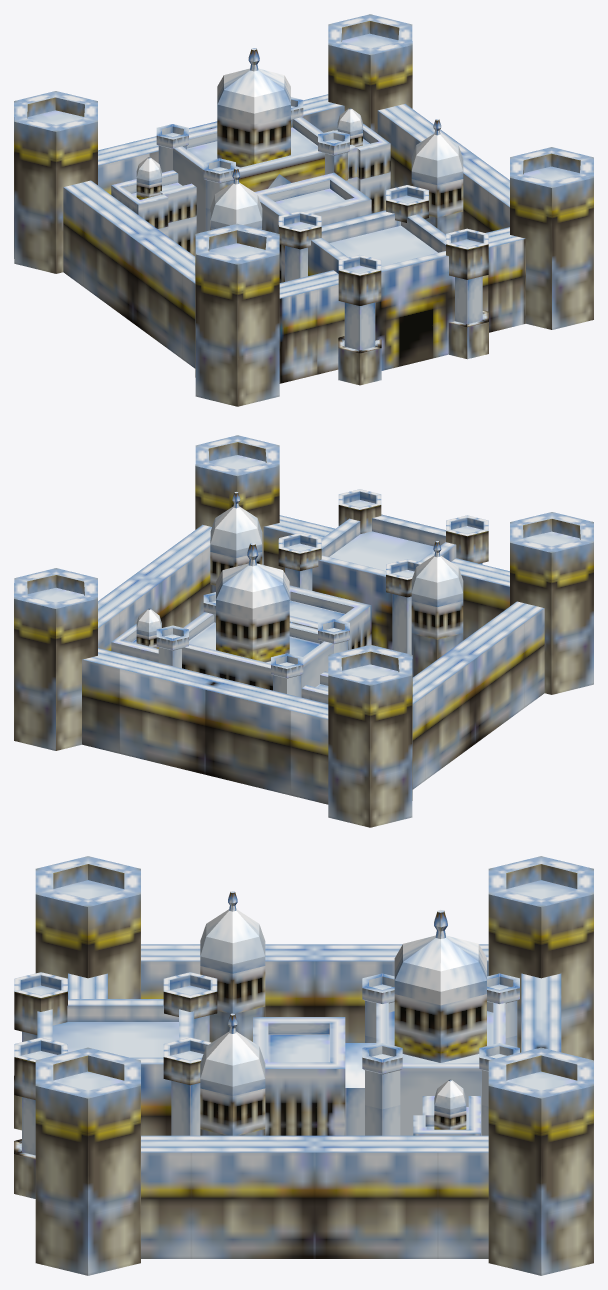
The model's file is Poly_World_Map_Castle_05_Snow.obj.
3 renders of one model, top to bottom at view 1: azimuth 30°, elevation 25°; view 2: azimuth 150°, elevation 25°; view 3: azimuth 270°, elevation 25°, orthographic. The views are drawn at different scales.
Visible parts, largest first — view 1: Grid.002, Grid.004, Grid.005, Grid.006, Grid.009, Grid.011, Grid.003, Grid.008, Grid.007, Grid.001, Grid.012; view 2: Grid.004, Grid.002, Grid.005, Grid.003, Grid.009, Grid.008, Grid.001, Grid.006, Grid.007, Grid.011, Grid.012; view 3: Grid.002, Grid.004, Grid.003, Grid.009, Grid.007, Grid.005, Grid.006, Grid.001, Grid.008, Grid.010, Grid.011, Grid.012.
Part boxes in pixels (left/top/right/bottom): Grid.002: left=14, top=14, right=593, bottom=406; Grid.004: left=63, top=94, right=525, bottom=383; Grid.005: left=308, top=210, right=454, bottom=370; Grid.006: left=338, top=228, right=488, bottom=385; Grid.009: left=217, top=48, right=290, bottom=167; Grid.011: left=111, top=123, right=390, bottom=256; Grid.003: left=210, top=119, right=463, bottom=234; Grid.008: left=173, top=117, right=324, bottom=233; Grid.007: left=254, top=172, right=371, bottom=282; Grid.001: left=278, top=185, right=428, bottom=281; Grid.012: left=136, top=108, right=362, bottom=199; Grid.004: left=82, top=515, right=544, bottom=804; Grid.002: left=14, top=435, right=593, bottom=827; Grid.005: left=312, top=514, right=456, bottom=649; Grid.003: left=210, top=492, right=463, bottom=677; Grid.009: left=216, top=543, right=289, bottom=662; Grid.008: left=182, top=612, right=333, bottom=697; Grid.001: left=278, top=533, right=422, bottom=654; Grid.006: left=338, top=489, right=488, bottom=564; Grid.007: left=289, top=585, right=371, bottom=649; Grid.011: left=111, top=624, right=328, bottom=703; Grid.012: left=136, top=608, right=161, bottom=648; Grid.002: left=35, top=856, right=593, bottom=1275; Grid.004: left=68, top=944, right=561, bottom=1258; Grid.003: left=200, top=891, right=265, bottom=1135; Grid.009: left=394, top=910, right=486, bottom=1062; Grid.007: left=253, top=1017, right=345, bottom=1135; Grid.005: left=37, top=999, right=194, bottom=1135; Grid.006: left=14, top=972, right=67, bottom=1198; Grid.001: left=163, top=972, right=217, bottom=1135; Grid.008: left=376, top=1002, right=505, bottom=1135; Grid.010: left=345, top=1043, right=376, bottom=1135; Grid.011: left=413, top=1096, right=480, bottom=1135; Grid.012: left=434, top=1079, right=466, bottom=1129.
Size of the model in its own units: 1.86 by 0.8726 by 1.88.
Materials: 1 (1 with a texture image).
